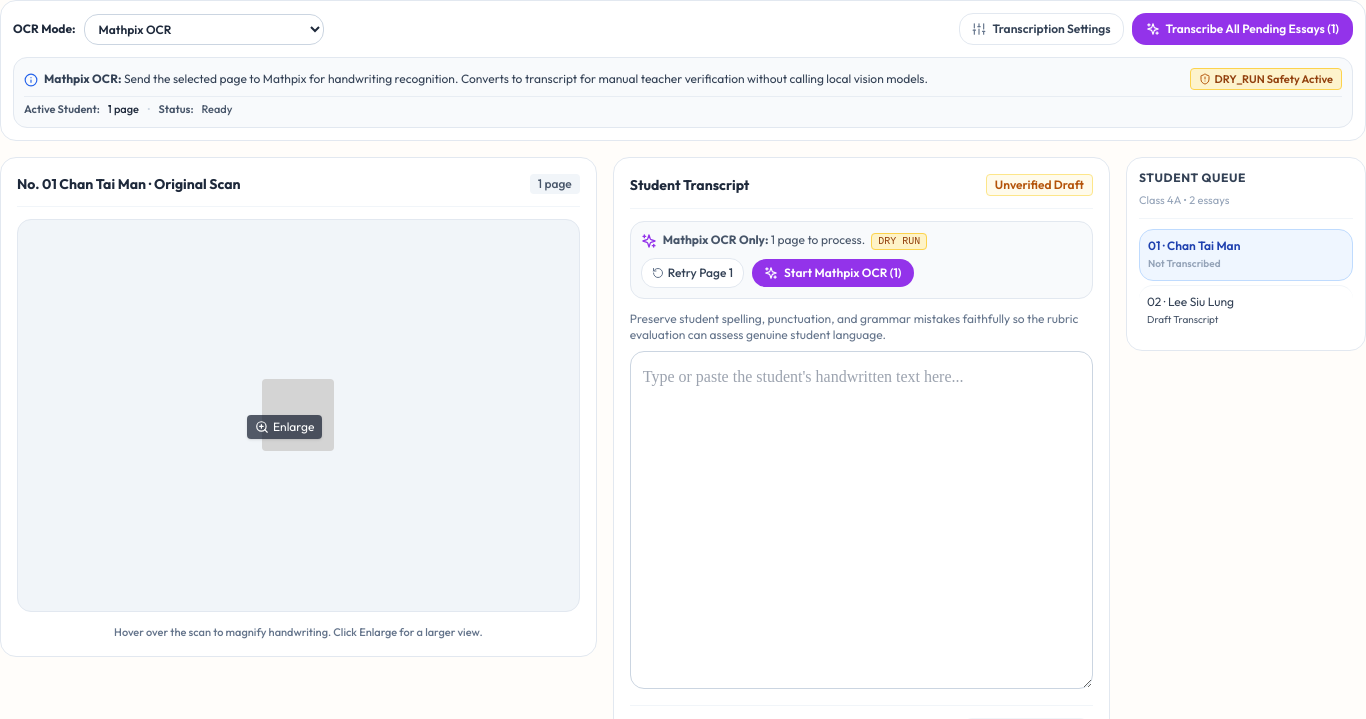
Step 4: Verify Script - Mathpix OCR & Mode Selector Requirements › 4. Qwen Failure & Retry without Mathpix Re-billing › retains Mathpix transcript when Qwen fails and allows retrying ONLY Qwen verification
Note: Switch to Mode B
Select "Mathpix OCR + Qwen VL Verify" in the dropdown labelled "OCR Mode:" at (204, 29), box left=84, top=14, right=324, bottom=44
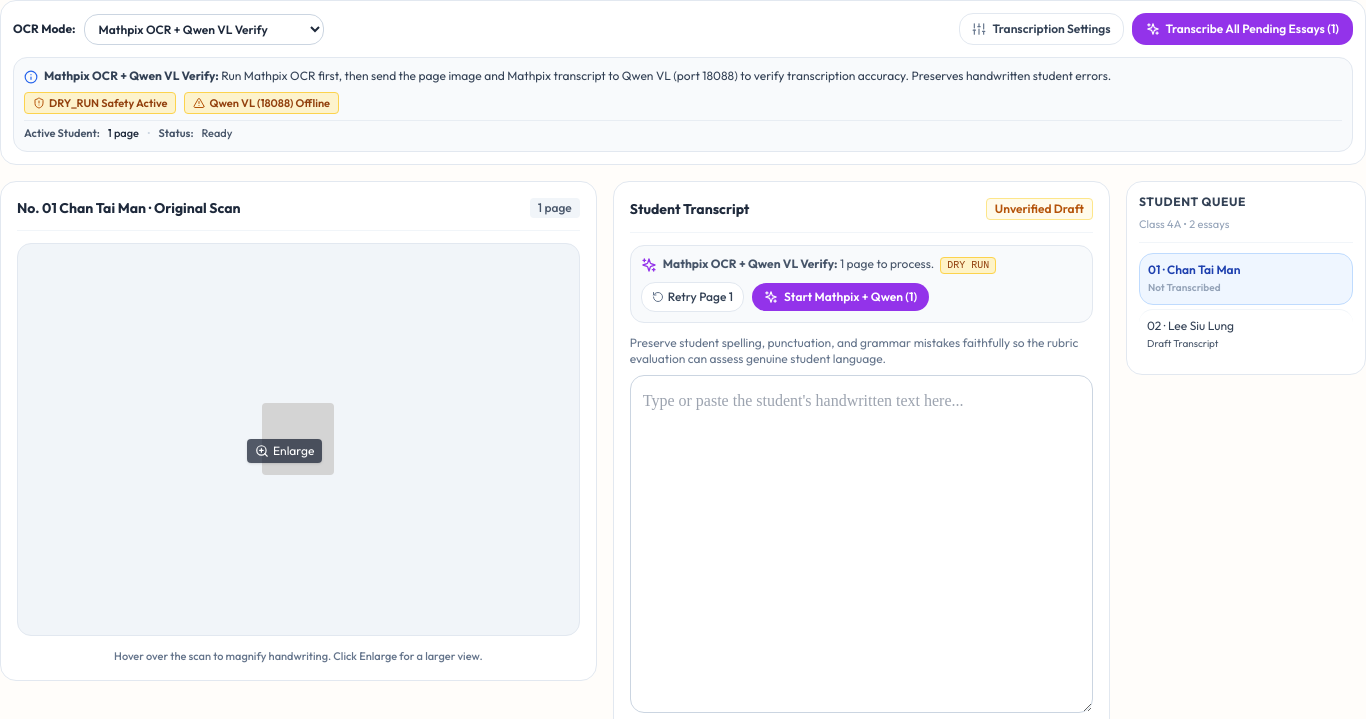
Note: Click Start
Click the button "Start Mathpix + Qwen (1)".
click(840, 297)  # box left=752, top=283, right=929, bottom=311
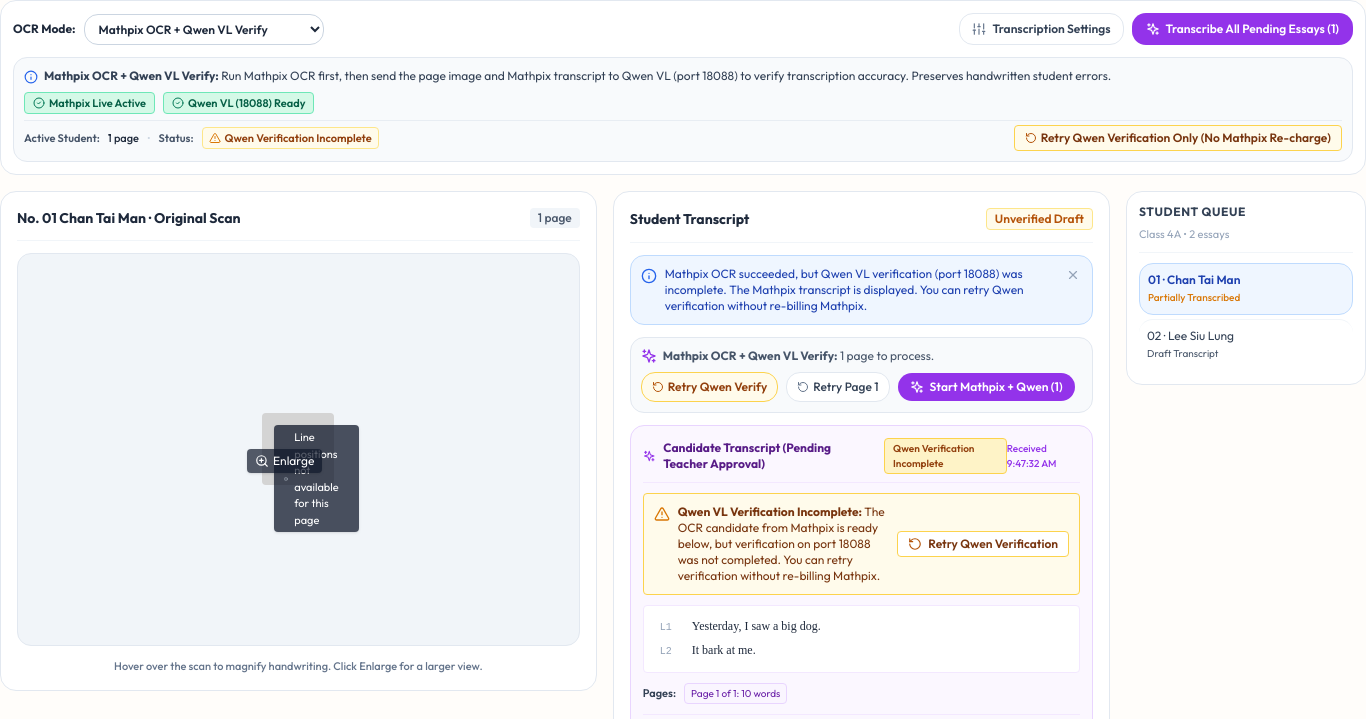
Check: the text "Yesterday, I saw a big dog." is shown, box left=692, top=619, right=821, bottom=633
Note: Click Retry Qwen Verify
Click the button "Retry Qwen Verification Only (No Mathpix Re-charge)".
click(1178, 138)  # box left=1014, top=125, right=1342, bottom=151
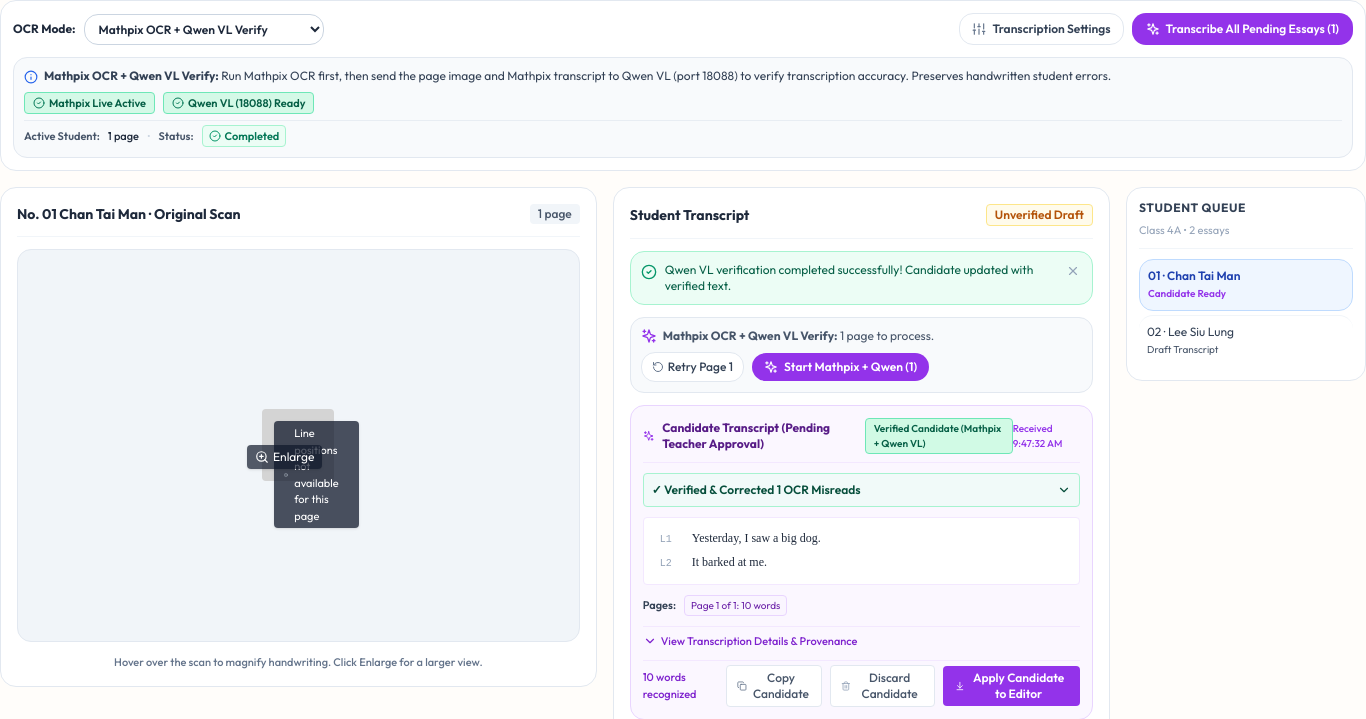
Check: the text "Verified Candidate (Mathpix + Qwen VL)" is shown, box left=865, top=418, right=1013, bottom=454
